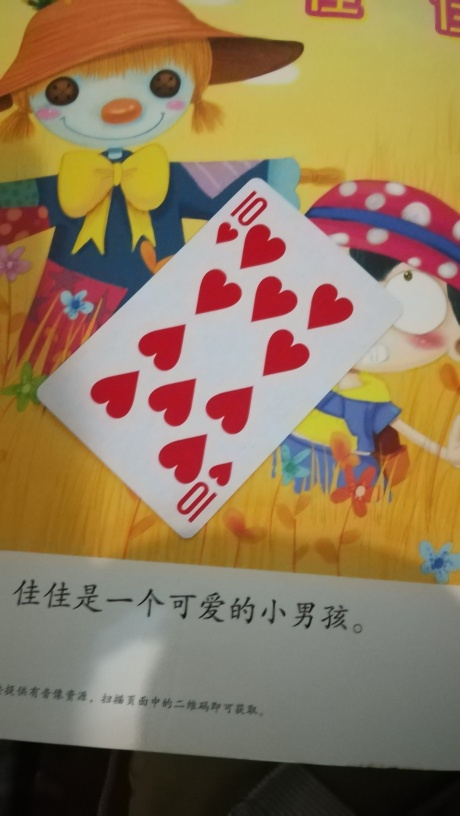hx 10: (36, 175, 400, 553)
